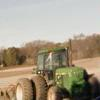Tractor: (20, 43, 100, 99)
